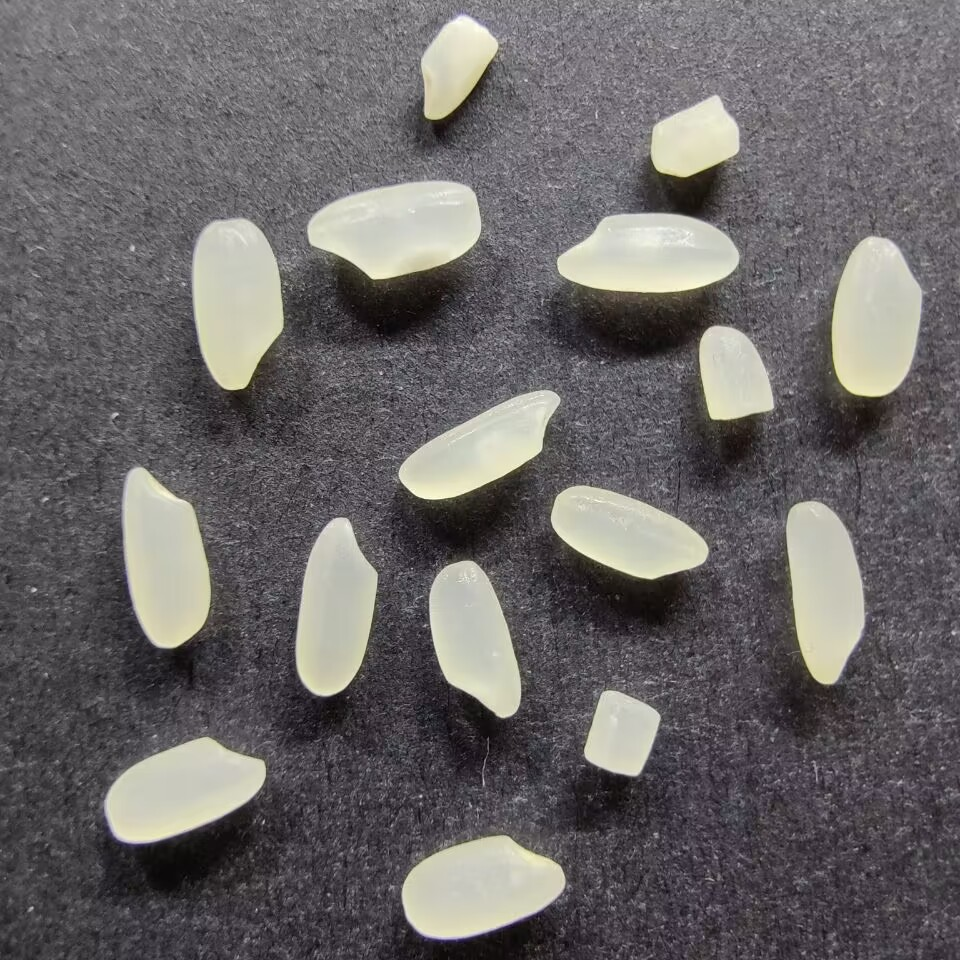broken: (415, 12, 498, 122), (647, 94, 742, 179), (696, 323, 776, 423), (578, 688, 663, 780)
rice: (396, 385, 561, 500), (303, 180, 484, 282), (102, 734, 267, 845), (399, 834, 566, 941), (119, 465, 212, 649), (190, 217, 285, 393), (548, 483, 711, 580), (292, 514, 378, 697), (553, 211, 741, 294), (426, 558, 522, 718), (830, 235, 923, 399), (786, 500, 867, 686)
